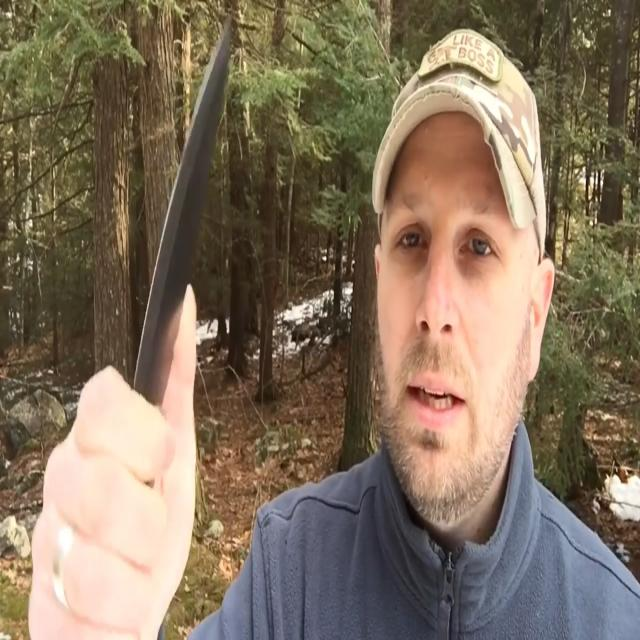knife: (128, 17, 240, 418)
